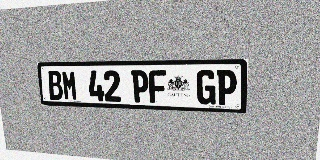2: (103, 70, 121, 102)
4: (88, 70, 105, 101)
B: (47, 71, 64, 100)
F: (149, 70, 167, 103)
G: (196, 70, 216, 105)
M: (61, 70, 78, 101)
P: (216, 70, 237, 105), (131, 70, 149, 103)
